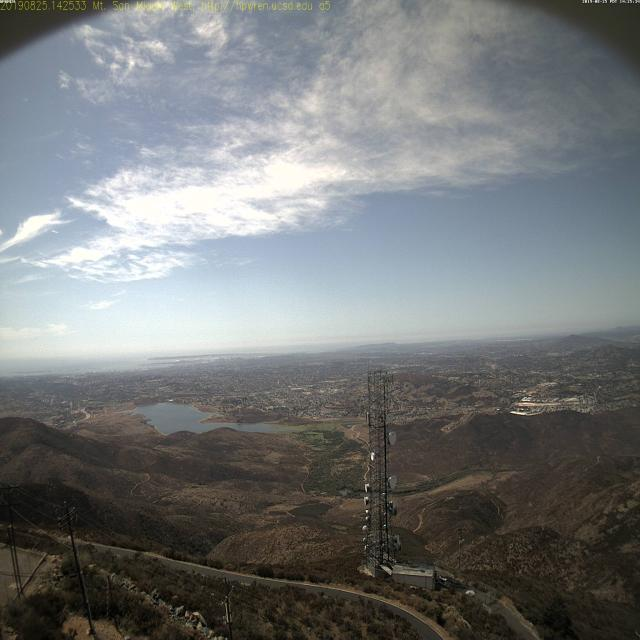smoke: (324, 351, 336, 366)
